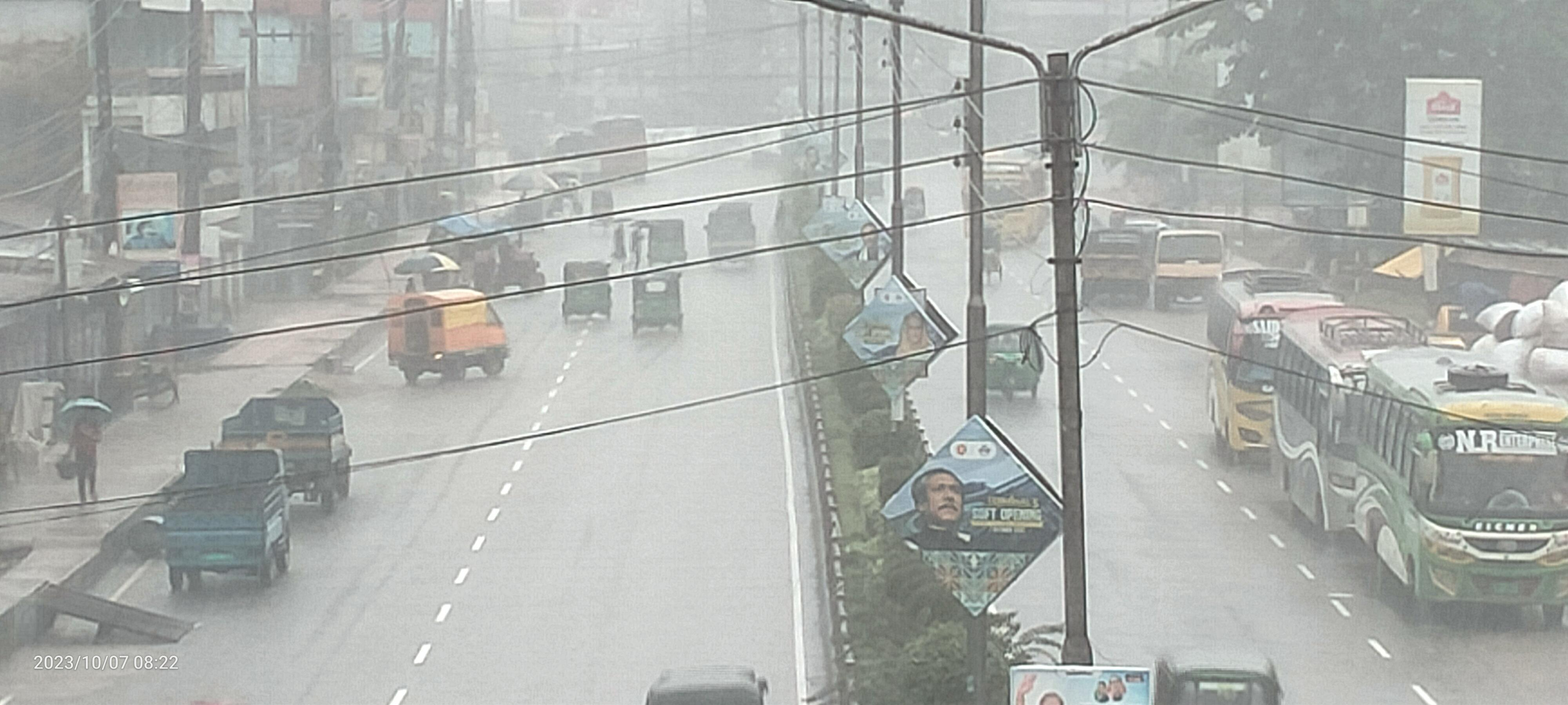Bus: (1344, 318, 1568, 655), (1189, 246, 1328, 484), (1254, 304, 1386, 547), (941, 111, 1062, 271), (563, 89, 660, 193)
Car: (370, 265, 533, 409)
Truck: (141, 418, 315, 611), (190, 363, 375, 531), (1132, 201, 1236, 343), (1055, 201, 1160, 323)
